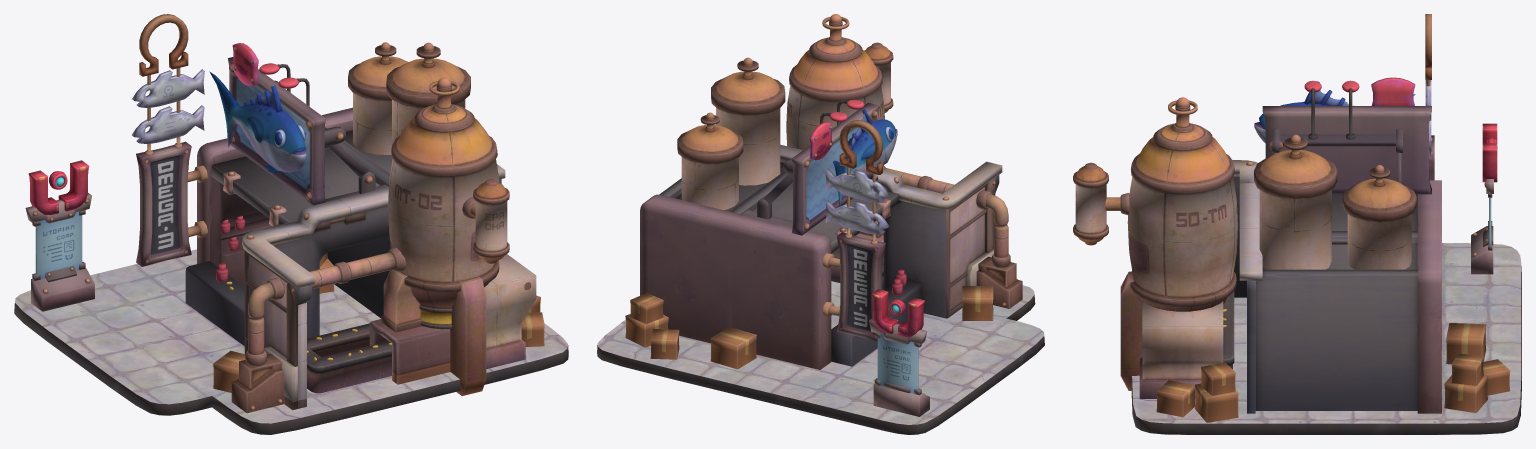
Rendered from FishOil.fbx.
3 renders of one model, left to right at view 1: azimuth 30°, elevation 25°; view 2: azimuth 150°, elevation 25°; view 3: azimuth 270°, elevation 25°, orthographic. The views are drawn at different scales.
Visible parts, largest first — view 1: Props, Mat_Floor, Wall, AD, Fish; view 2: Wall, Props, Mat_Floor, AD, Fish; view 3: Props, Wall, Mat_Floor, AD, Fish.
Boxes of the visible parts, bbox=[...] form: Props: bbox=[213, 42, 544, 413]; Mat_Floor: bbox=[14, 249, 568, 434]; Wall: bbox=[185, 107, 505, 410]; AD: bbox=[25, 14, 389, 410]; Fish: bbox=[209, 71, 306, 173]; Wall: bbox=[640, 144, 1002, 369]; Props: bbox=[625, 14, 1022, 369]; Mat_Floor: bbox=[597, 281, 1044, 434]; AD: bbox=[729, 99, 1006, 416]; Fish: bbox=[832, 109, 897, 206]; Props: bbox=[1073, 97, 1510, 422]; Wall: bbox=[1232, 160, 1441, 413]; Mat_Floor: bbox=[1131, 243, 1521, 434]; AD: bbox=[1246, 14, 1497, 274]; Fish: bbox=[1254, 81, 1415, 143].
Bounding box in the file's own units: 149 × 113 × 156.
